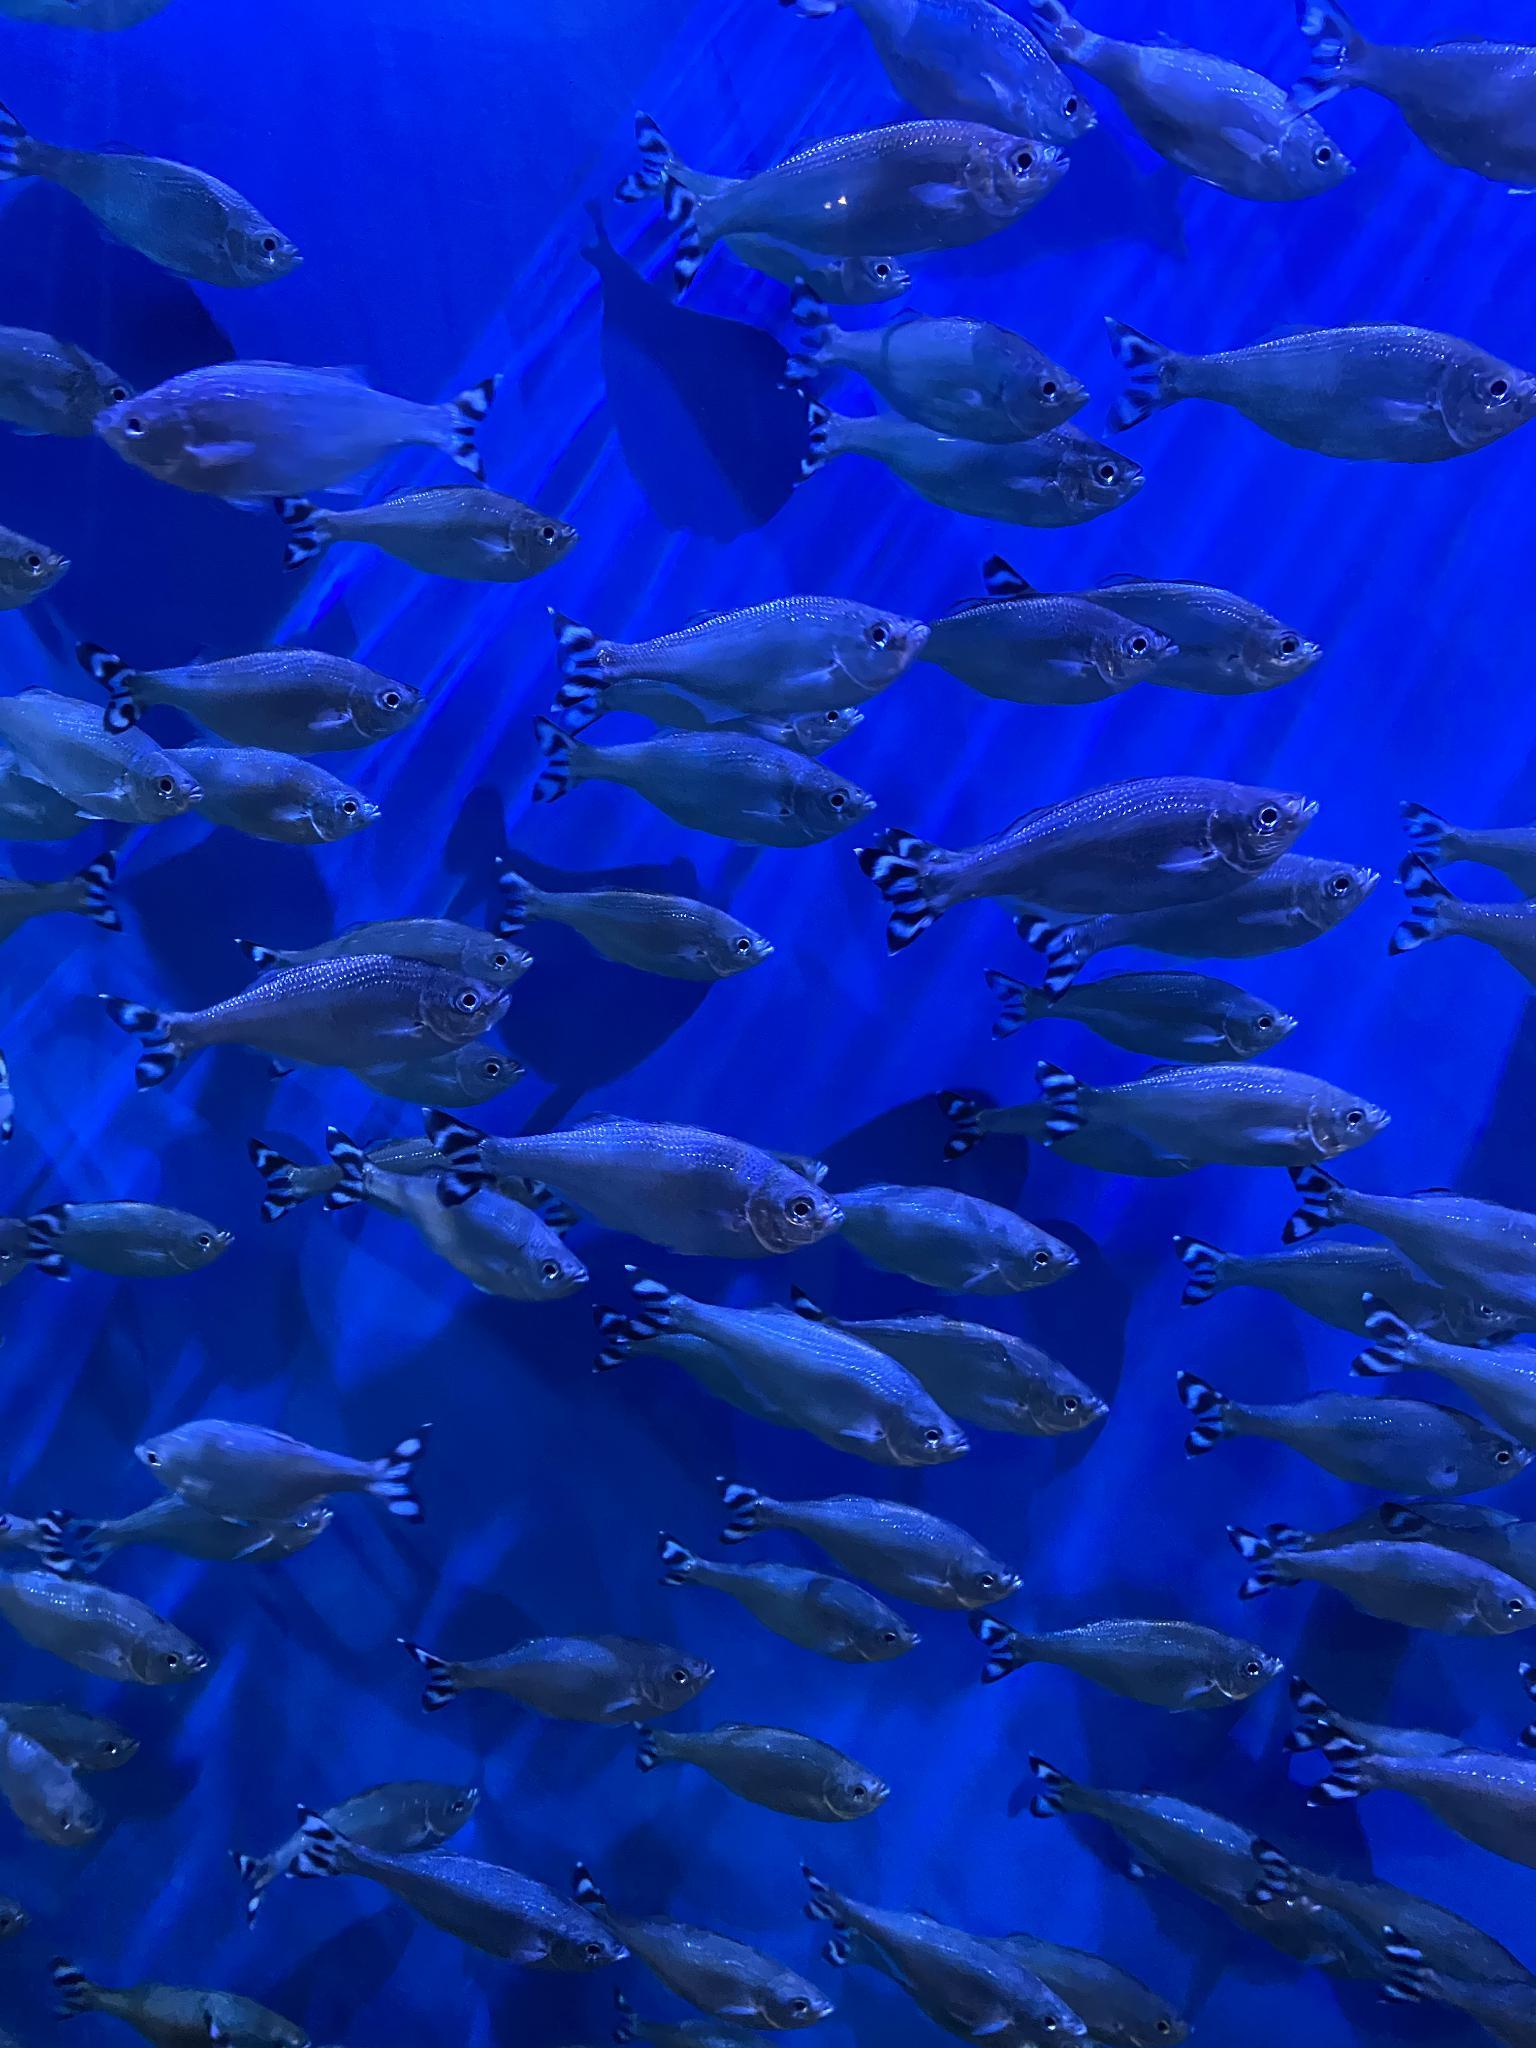fish: (1115, 321, 1534, 497), (608, 118, 1058, 273), (607, 1274, 949, 1459), (1063, 0, 1365, 205), (432, 1109, 828, 1264), (908, 763, 1296, 916), (102, 343, 481, 497), (23, 124, 321, 308), (957, 1051, 1397, 1171), (707, 1467, 1055, 1617), (991, 553, 1334, 705), (1181, 1361, 1517, 1508), (807, 1879, 1092, 2046), (539, 726, 878, 863), (1044, 853, 1391, 984), (642, 1534, 958, 1675), (81, 955, 507, 1059), (1178, 1224, 1501, 1359), (324, 1145, 603, 1301), (805, 397, 1152, 519), (1291, 1863, 1534, 2037), (1263, 1534, 1534, 1688), (1028, 1746, 1278, 1909), (561, 590, 907, 706), (0, 1513, 216, 1692), (365, 1856, 631, 2000), (407, 1622, 733, 1738), (823, 1176, 1102, 1308), (771, 314, 1079, 434), (1292, 1155, 1534, 1305), (879, 1293, 1120, 1443), (105, 631, 432, 740), (987, 1592, 1260, 1722), (281, 477, 573, 598), (1347, 26, 1536, 211), (657, 1698, 915, 1829), (831, 0, 1083, 129), (1325, 1679, 1534, 1829), (150, 1426, 465, 1526), (508, 863, 770, 979), (1008, 963, 1333, 1056), (920, 579, 1146, 711), (152, 727, 379, 848), (248, 1764, 489, 1875), (0, 1172, 244, 1274), (0, 685, 198, 810), (261, 910, 545, 993), (644, 1934, 849, 2037), (1375, 1311, 1536, 1442), (0, 1711, 132, 1858), (1354, 868, 1534, 972), (0, 311, 124, 440), (1381, 810, 1534, 900), (0, 848, 119, 943), (0, 493, 76, 606)
